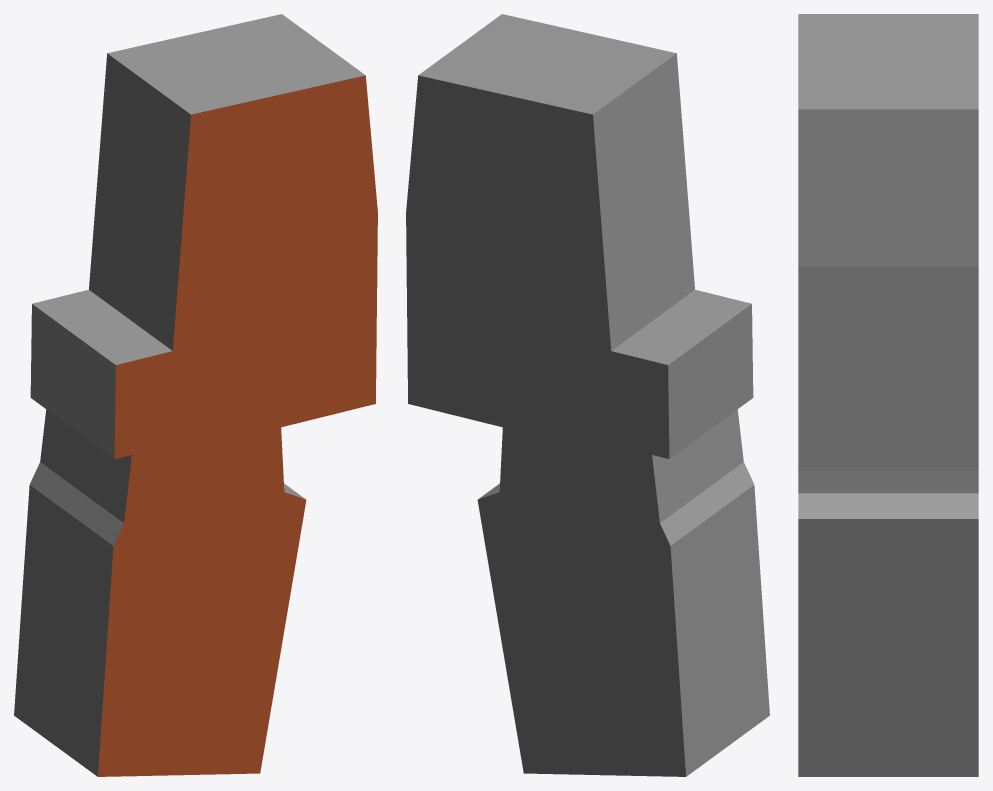
File: construction_3099_assumed_A_Casa_h6m.obj
3 renders of one model, left to right at view 1: azimuth 30°, elevation 25°; view 2: azimuth 150°, elevation 25°; view 3: azimuth 270°, elevation 25°, orthographic. The views are drawn at different scales.
Parts seen in each view (by area): view 1: construction_3099_assumed_A_Casa; view 2: construction_3099_assumed_A_Casa; view 3: construction_3099_assumed_A_Casa.
Part boxes in pixels (bbox=[...]): construction_3099_assumed_A_Casa: bbox=[14, 14, 377, 776]; construction_3099_assumed_A_Casa: bbox=[406, 14, 769, 776]; construction_3099_assumed_A_Casa: bbox=[798, 14, 978, 776].
Bounding box in the file's own units: 11.57 × 26.67 × 6.
